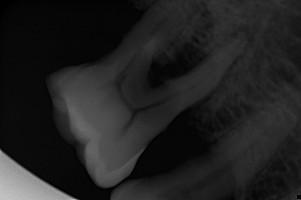Endo-Periodontal Lesion: (148, 40, 209, 88)
